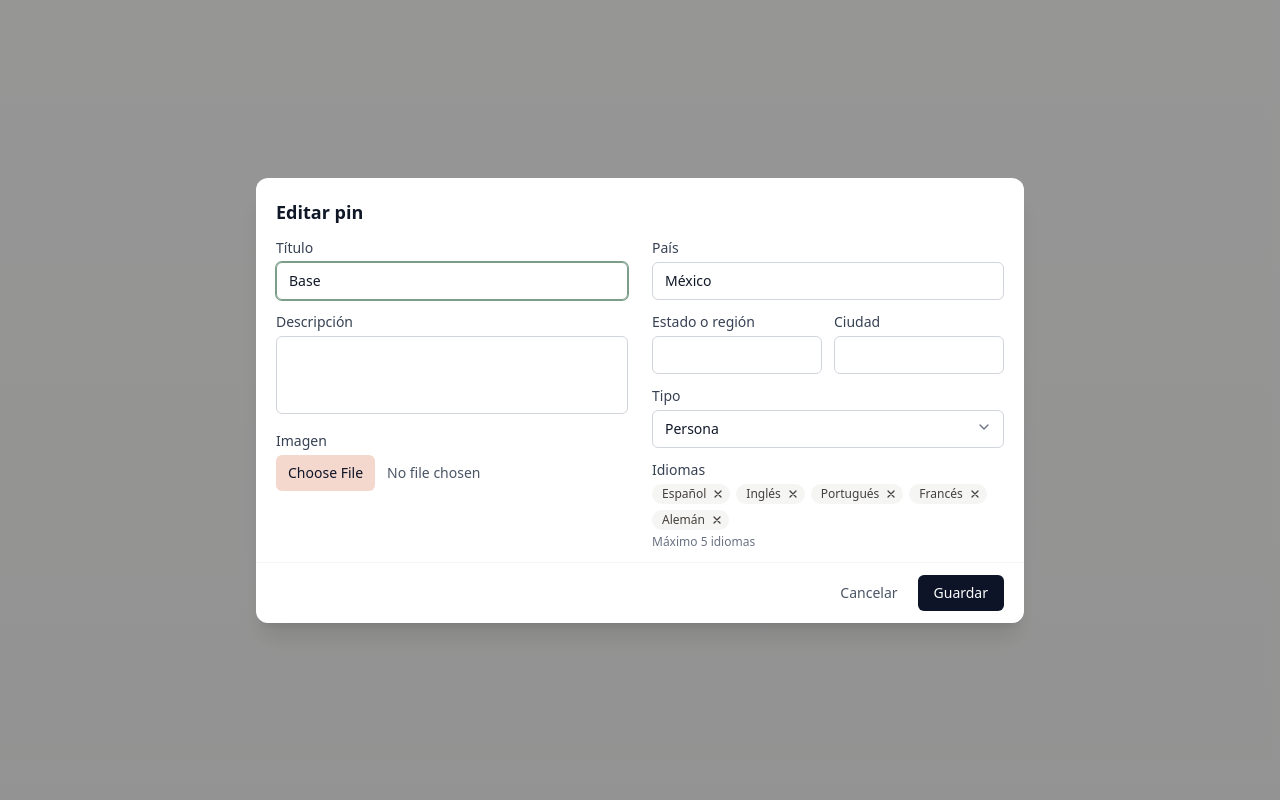
PinFormModal type and languages › stops at five languages
The width and height of the screenshot is (1280, 800).
expect the text "Máximo 5 idiomas" is shown: met, box [652, 532, 755, 550]
Click the button named "Quitar Alemán" at (717, 520), box [709, 512, 725, 528]
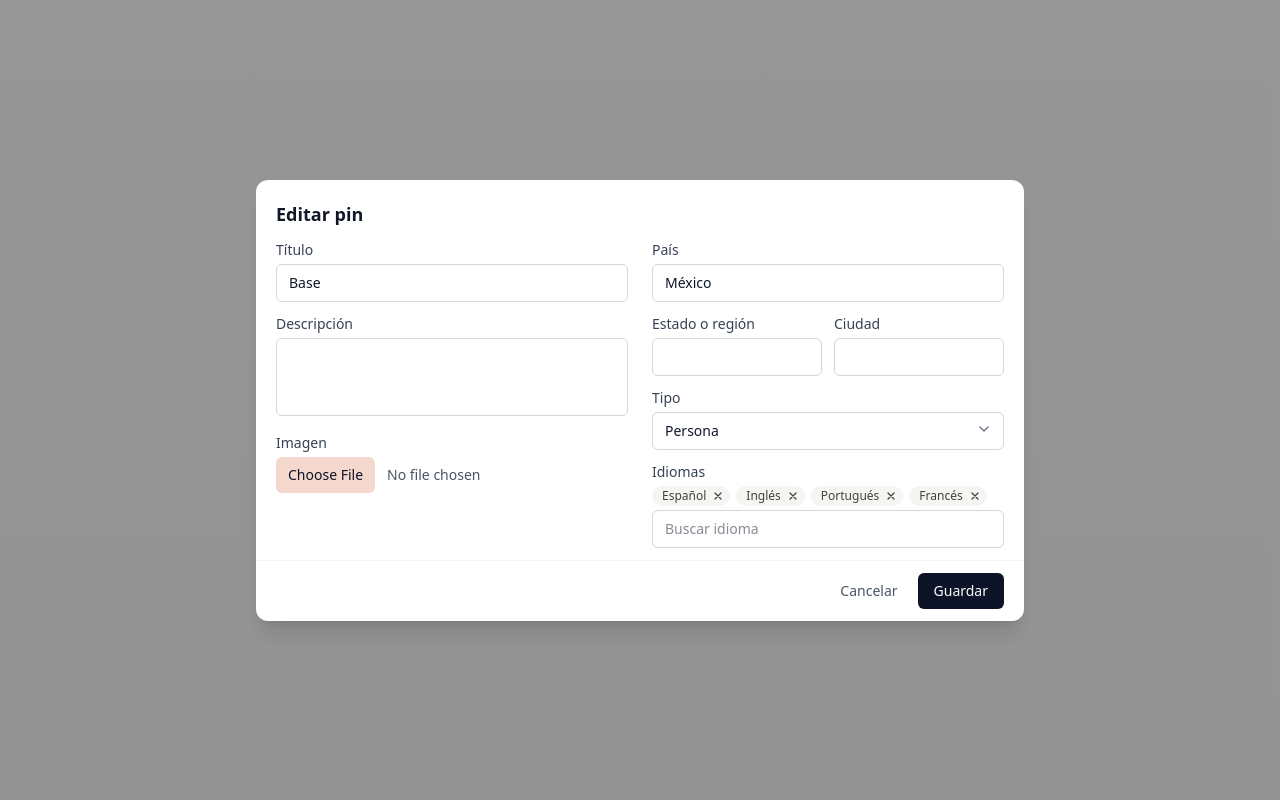
expect the dropdown labelled "Idiomas" is shown: met, box [652, 510, 1004, 548]
